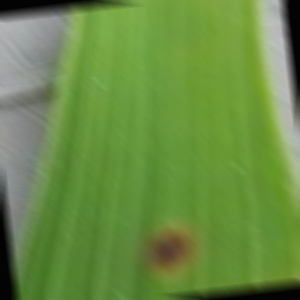Bacterial_Leaf_Blight: (142, 220, 204, 288)
